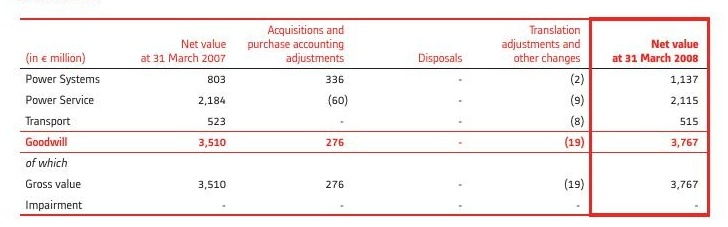table: (0, 0, 728, 227)
